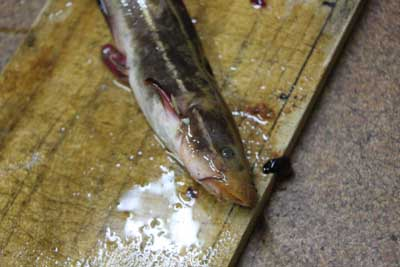gonzui: (87, 1, 289, 222)
